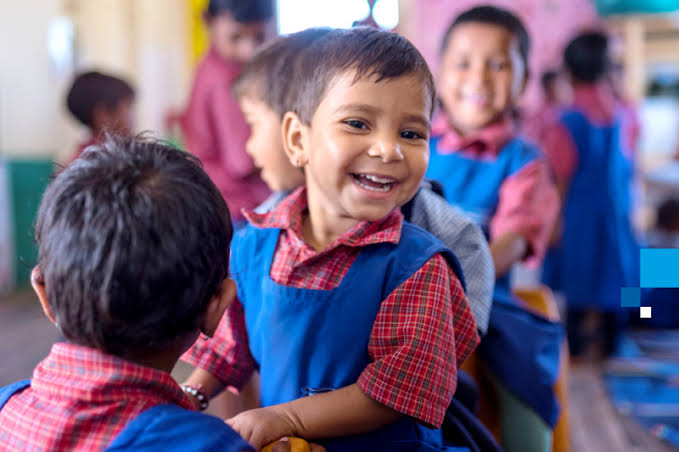student: (18, 139, 263, 364), (290, 38, 438, 233)
